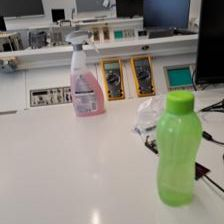bottle: (154, 89, 202, 206)
